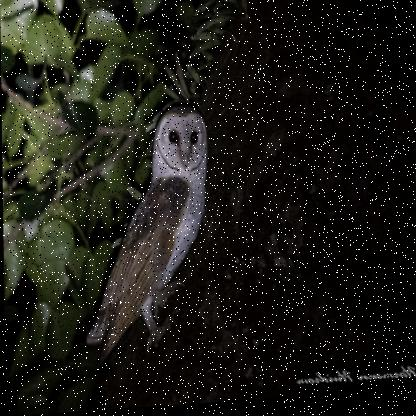Burung: (82, 109, 212, 355)
